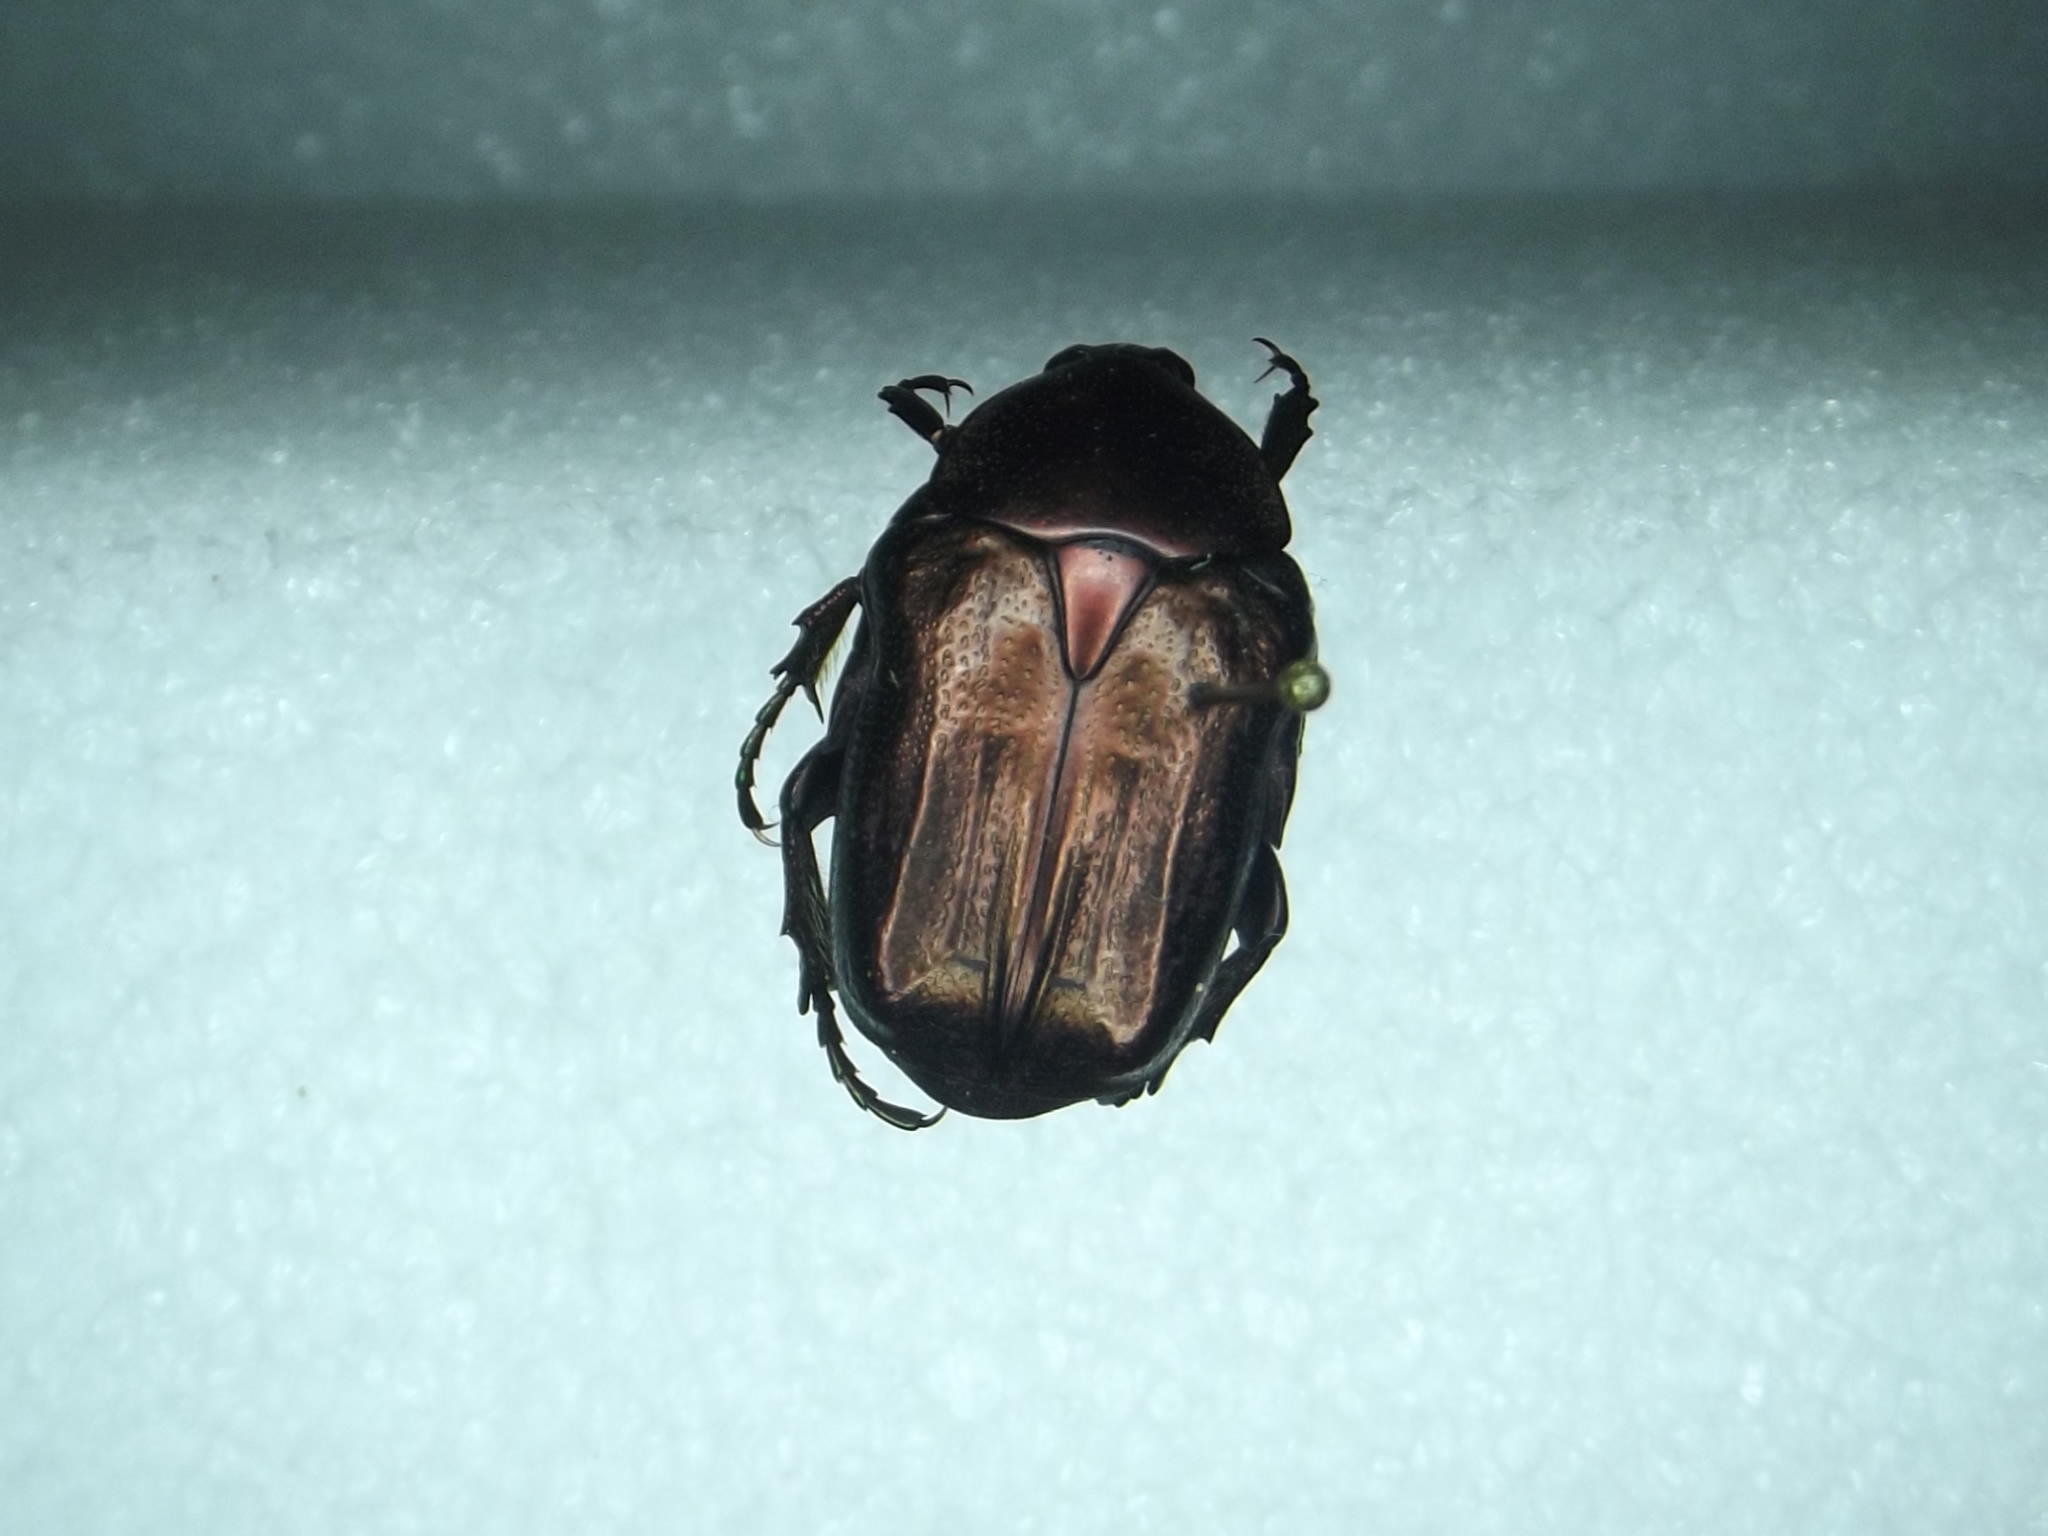Cetonia_aurata: (703, 294, 1367, 1144)
